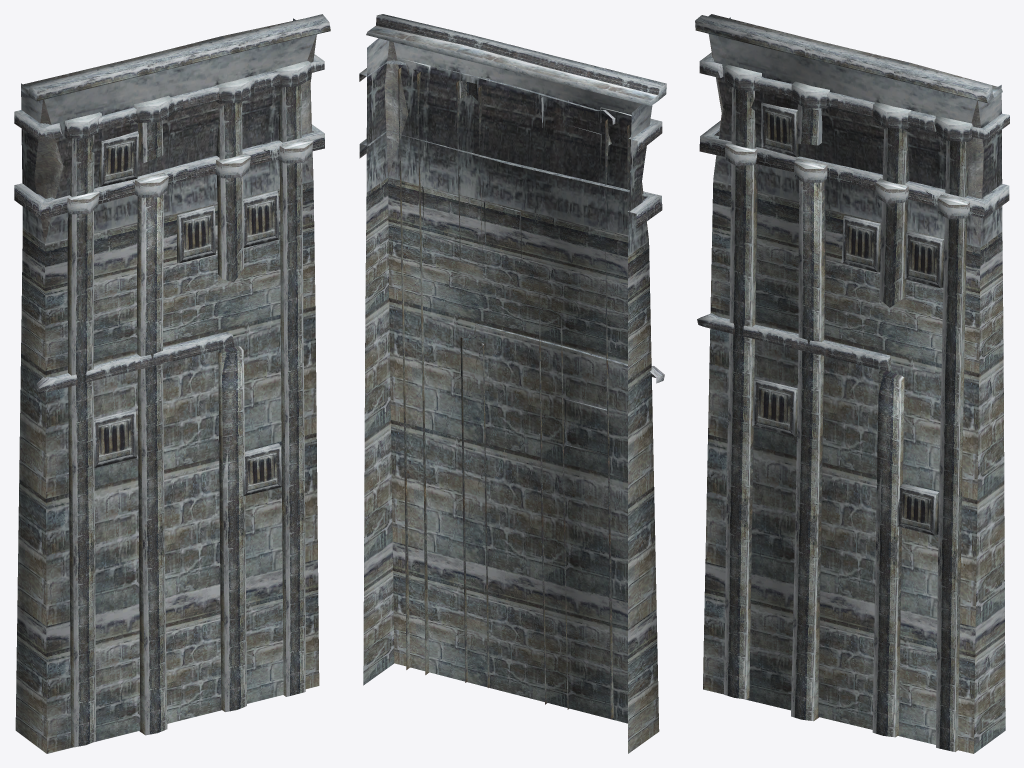
File: S_Build_Snowland142.FBX
3 renders of one model, left to right at view 1: azimuth 30°, elevation 25°; view 2: azimuth 150°, elevation 25°; view 3: azimuth 330°, elevation 25°, orthographic. The views are drawn at different scales.
Parts seen in each view (by area): view 1: S_Build_Snowland142; view 2: S_Build_Snowland142; view 3: S_Build_Snowland142.
Part boxes in pixels (left/top/right/bottom): S_Build_Snowland142: left=14, top=14, right=330, bottom=753; S_Build_Snowland142: left=359, top=14, right=666, bottom=753; S_Build_Snowland142: left=695, top=14, right=1009, bottom=753.
Size of the model in its own units: 1455 by 325 by 3169.
